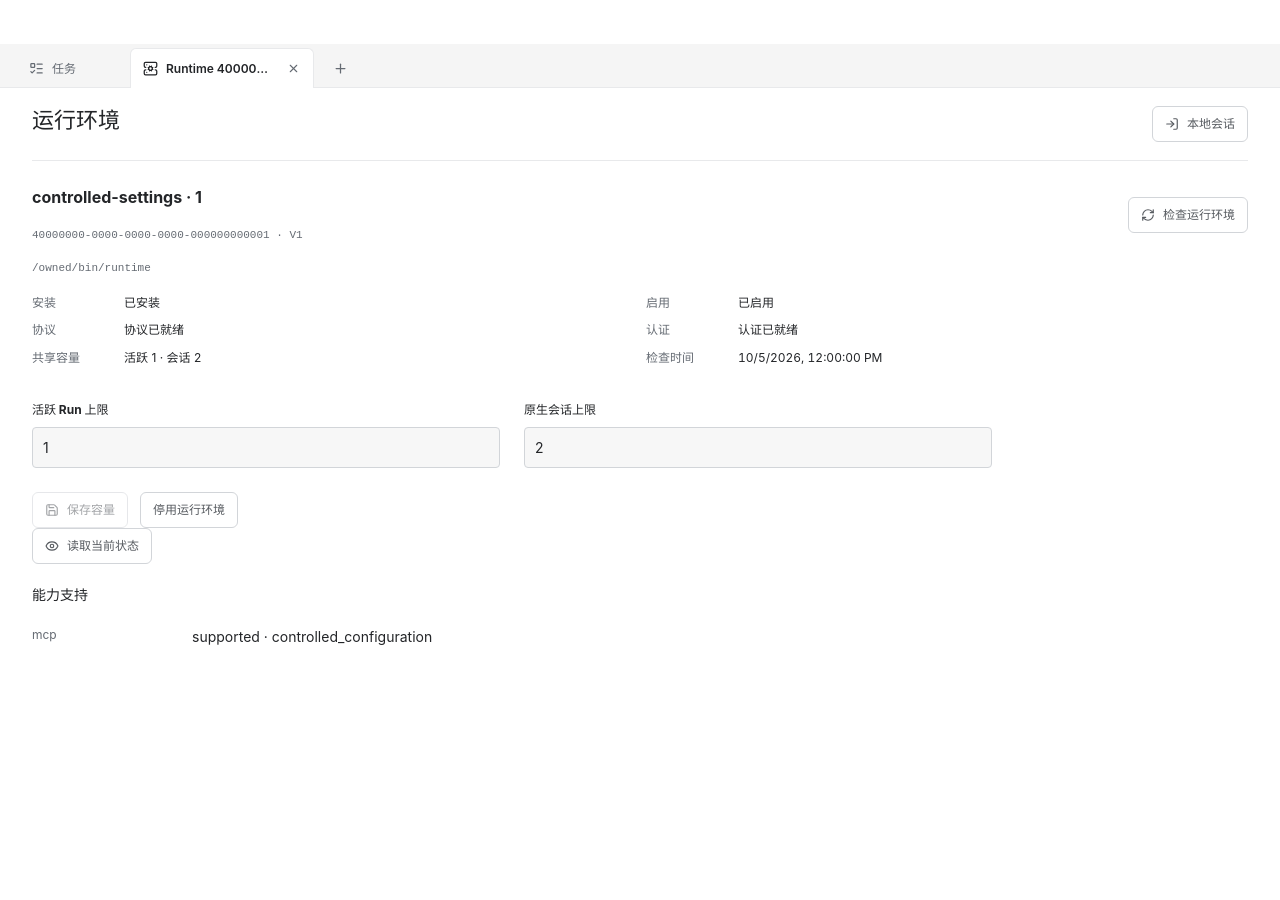
Scenario: explicit runtime management › saves one held capacity write using its original expected version
Replace the text in the number field labelled "活跃 Run 上限" with "2": (266, 447) [32,427,500,468]
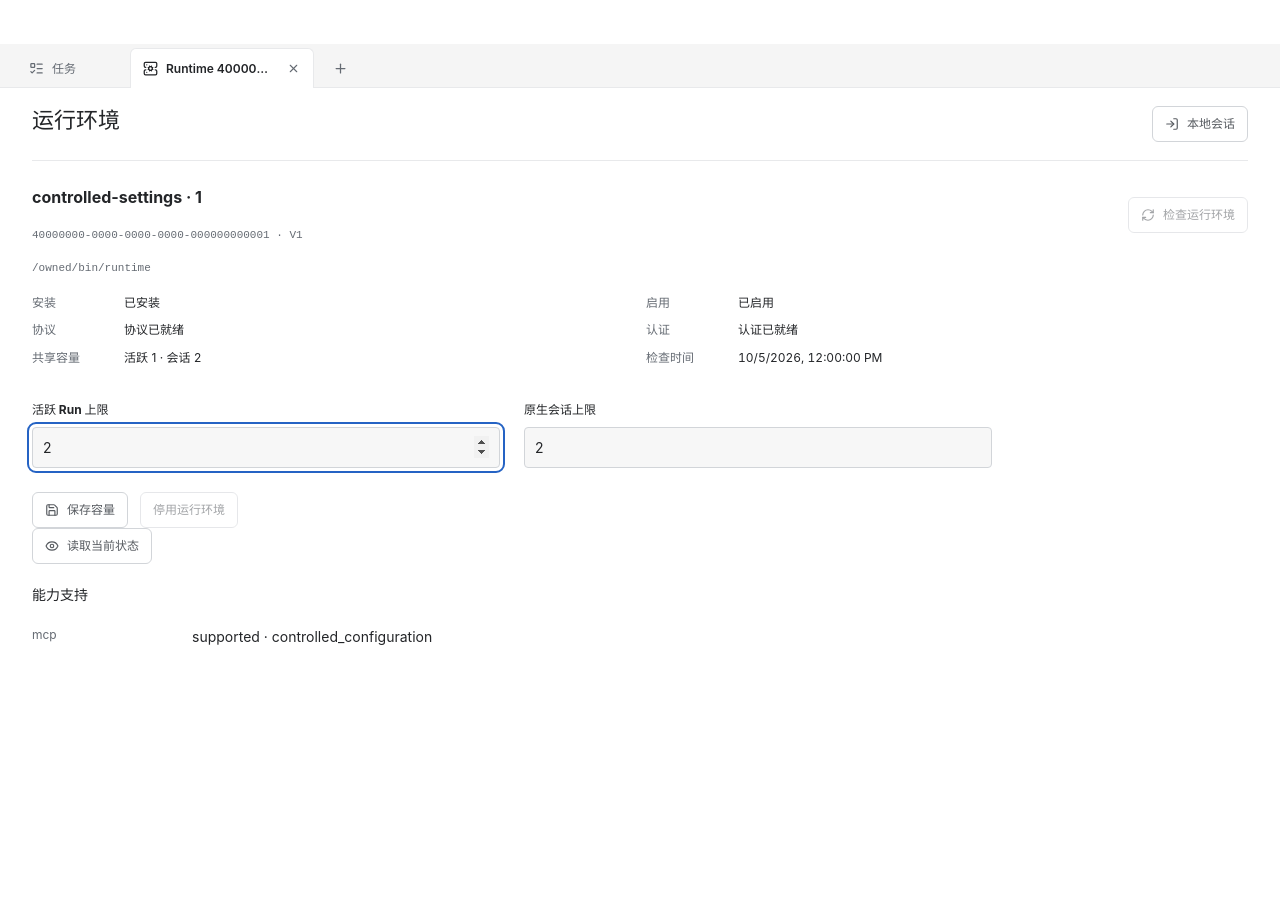
Replace the text in the number field labelled "原生会话上限" with "3": (758, 447) [524,427,992,468]
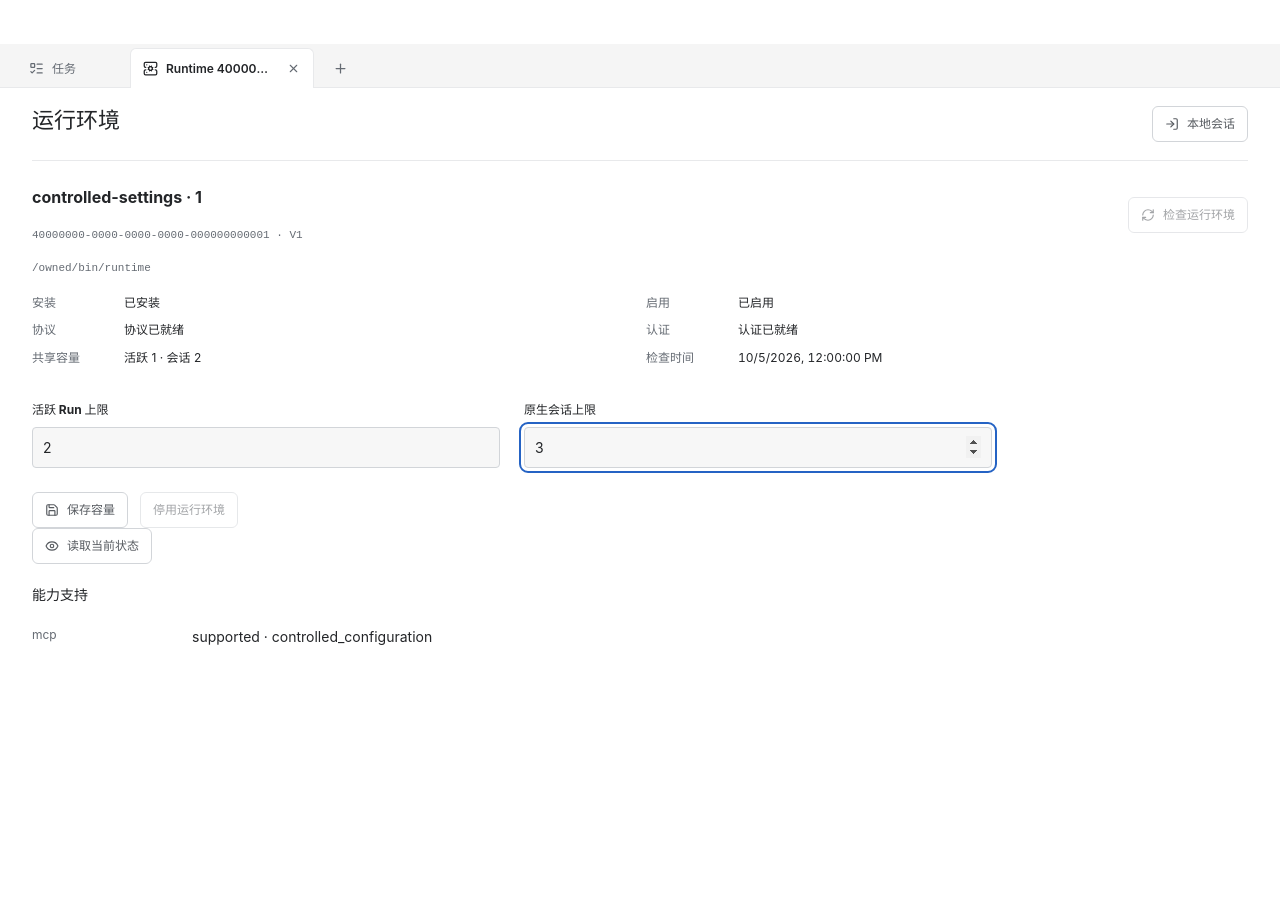
Double-click the button "保存容量": (80, 510) [32,492,128,528]
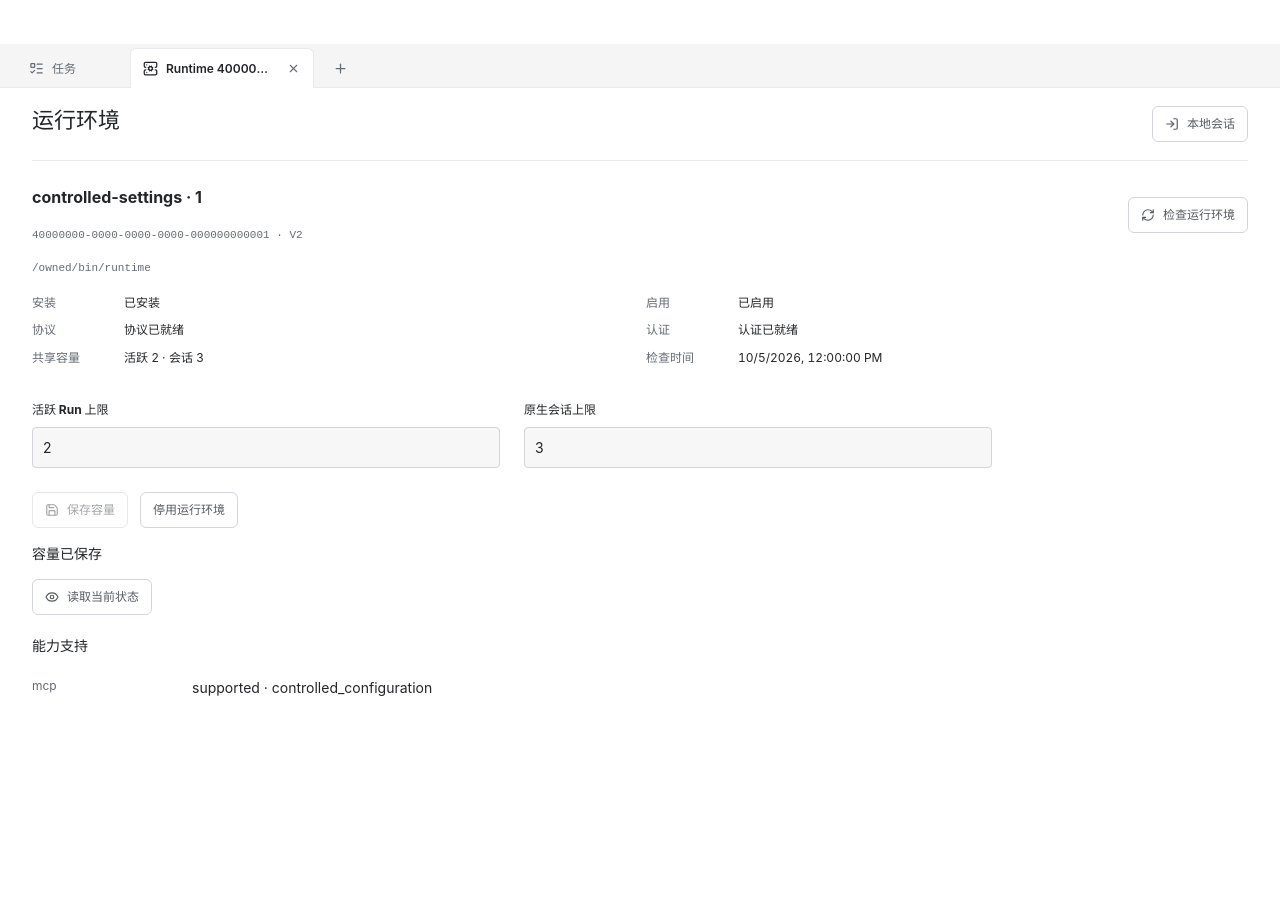
Result: the button "保存容量" is disabled at [32,492,128,528]
Result: the text "容量已保存" is shown at [32,545,102,562]
